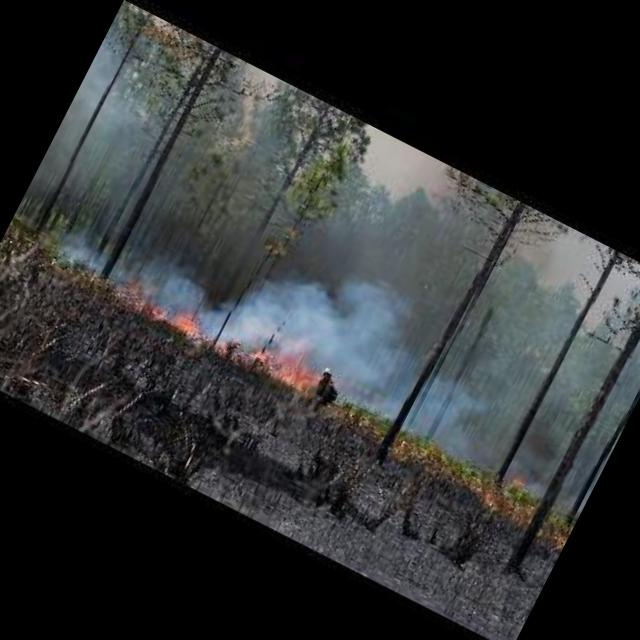fire: (251, 315, 344, 395), (147, 289, 208, 338), (126, 277, 154, 305), (510, 470, 531, 490)
